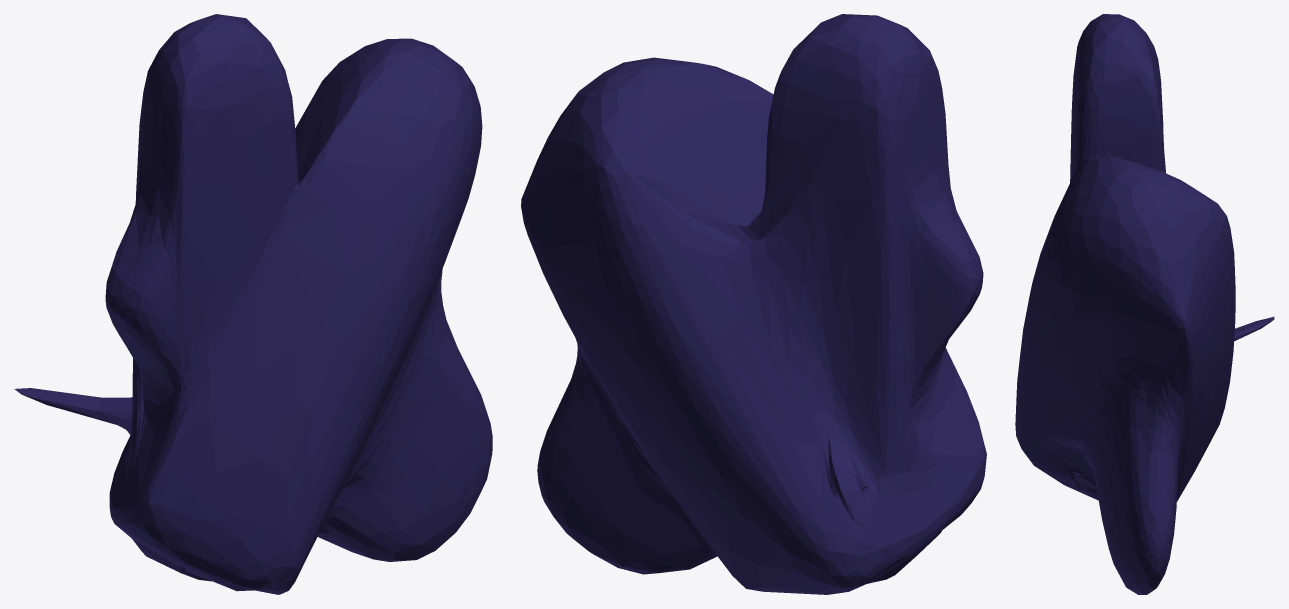
3 renders of one model, left to right at view 1: azimuth 30°, elevation 25°; view 2: azimuth 150°, elevation 25°; view 3: azimuth 270°, elevation 25°, orthographic. The views are drawn at different scales.
Parts seen in each view (by area): view 1: 375_Cube.1528; view 2: 375_Cube.1528; view 3: 375_Cube.1528.
Boxes of the visible parts, bbox=[...] form: 375_Cube.1528: bbox=[14, 14, 492, 594]; 375_Cube.1528: bbox=[521, 14, 986, 594]; 375_Cube.1528: bbox=[1015, 14, 1274, 594].
Bounding box in the file's own units: 9.39 × 13.09 × 6.34.
